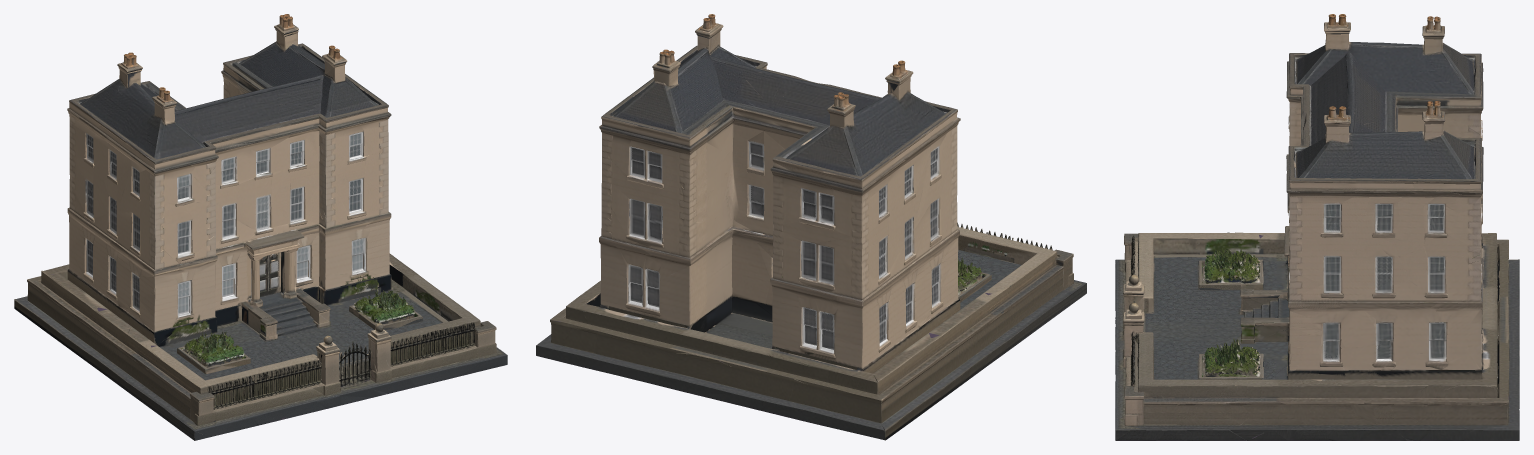
Rendered from building_members_club.glb.
3 renders of one model, left to right at view 1: azimuth 30°, elevation 25°; view 2: azimuth 150°, elevation 25°; view 3: azimuth 270°, elevation 25°, orthographic. The views are drawn at different scales.
Visible parts, largest first — view 1: output_unwrapped; view 2: output_unwrapped; view 3: output_unwrapped.
Part boxes in pixels (left/top/right/bottom): output_unwrapped: left=14, top=14, right=507, bottom=440; output_unwrapped: left=536, top=14, right=1086, bottom=440; output_unwrapped: left=1115, top=14, right=1519, bottom=440.
Bounding box in the file's own units: 2 × 1.61 × 2.
1 material, 1 textured.
